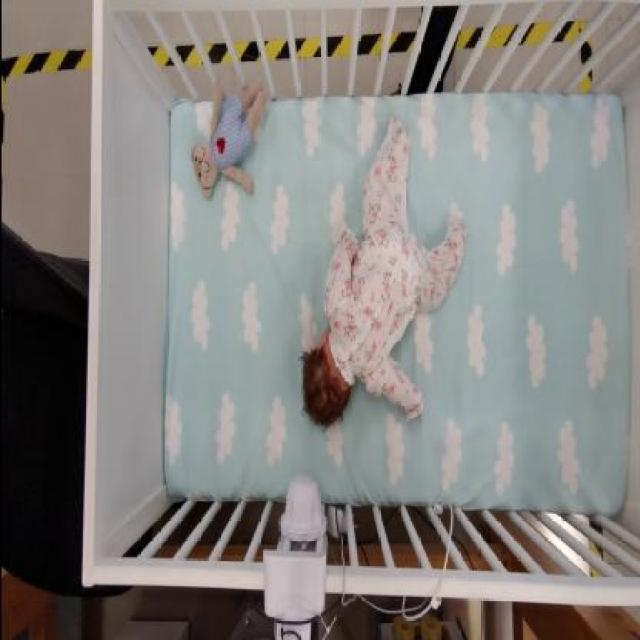baby: (297, 113, 468, 430)
